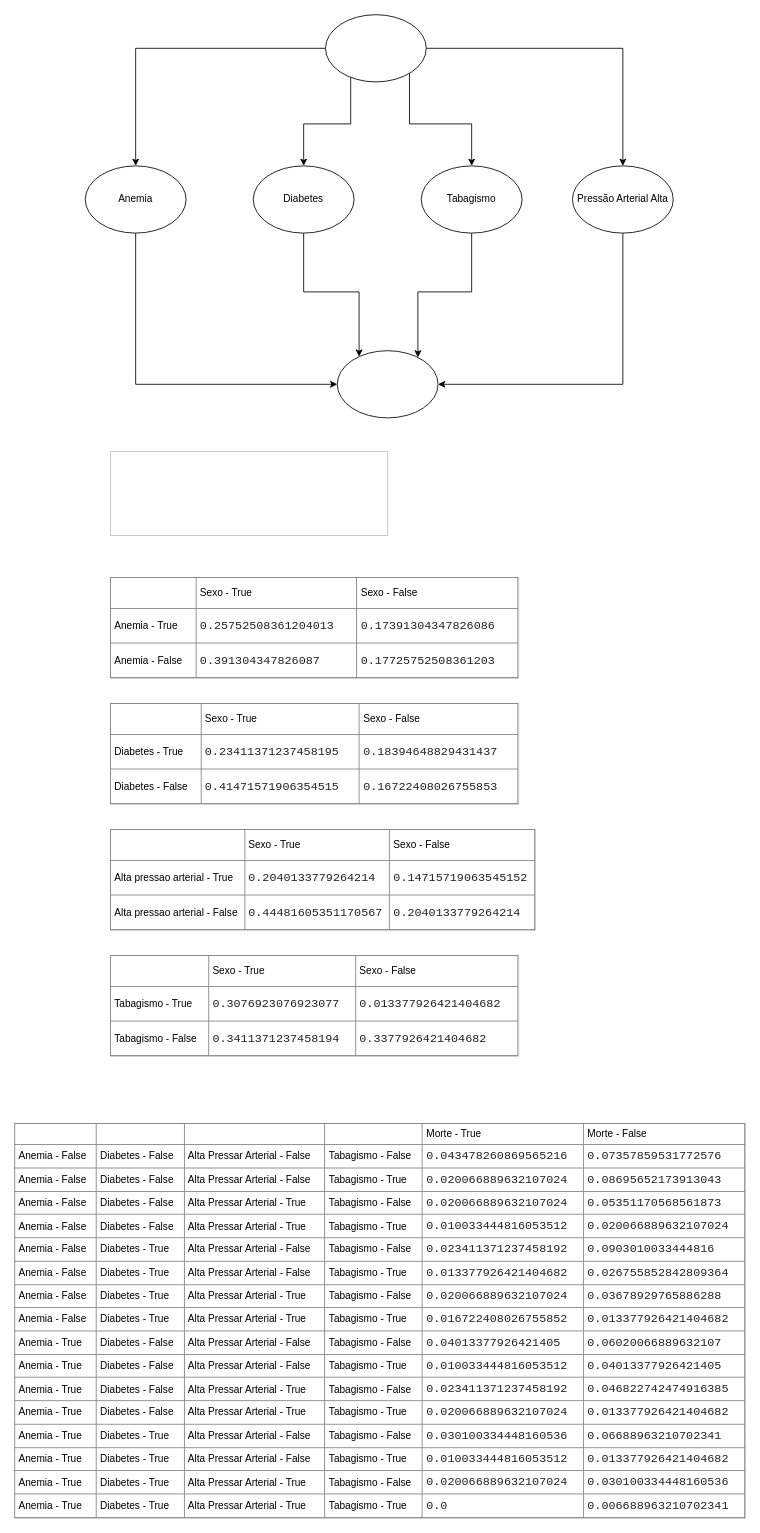
Some shapes in this 760 by 1533 pixel diagram are drawn without their labels. The centre of each missing label's shape, as x and y in pixels:
"Morte" goes at (387,384).
"Sexo" goes at (375,48).
"Sexo - True Sexo - False 0.6488294314381271 0.3511705685618729" goes at (249,493).
